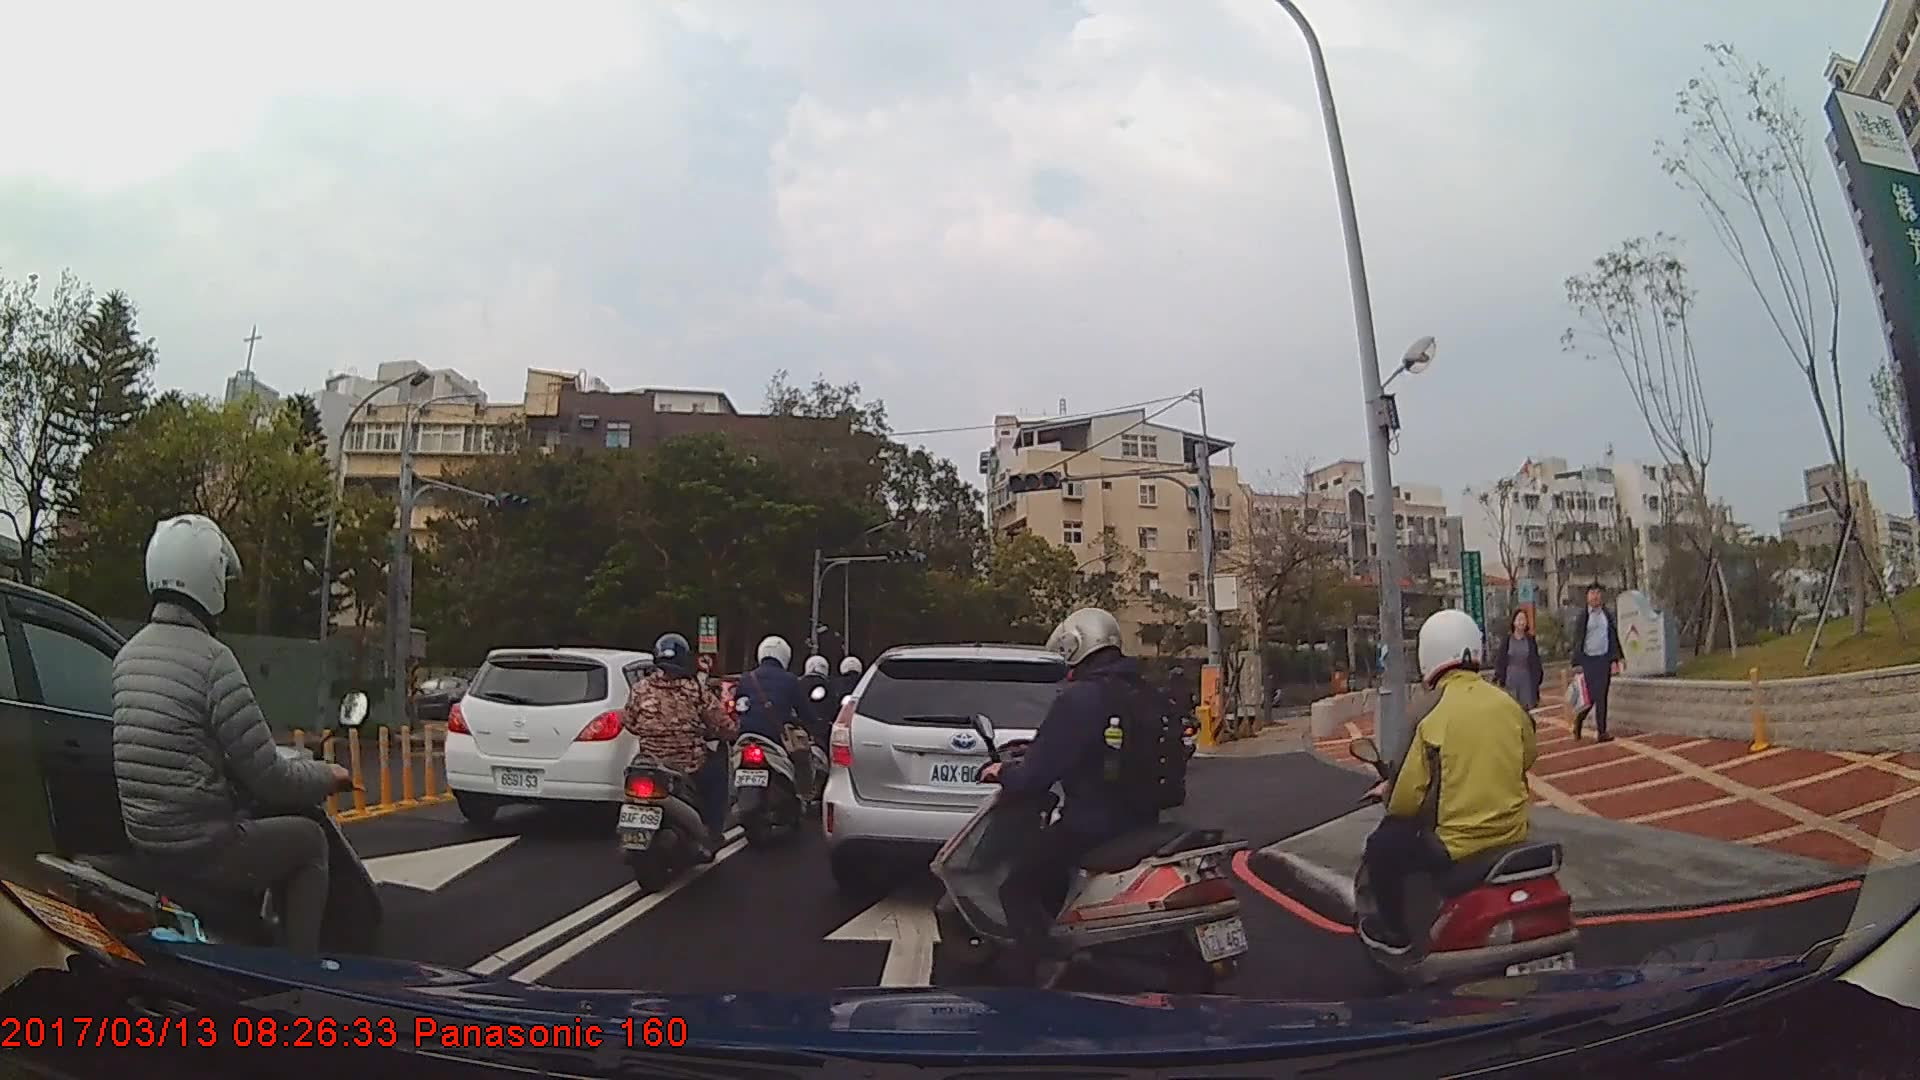pedestrian: (1485, 613, 1550, 769), (1572, 583, 1633, 744)
rider: (56, 511, 392, 1050), (931, 609, 1253, 1003), (1341, 606, 1576, 1029), (616, 633, 739, 894), (726, 633, 828, 845), (795, 656, 851, 801), (1147, 671, 1203, 763)
vehicle: (0, 577, 337, 956), (821, 640, 1118, 904), (440, 645, 730, 826), (401, 673, 490, 721)
